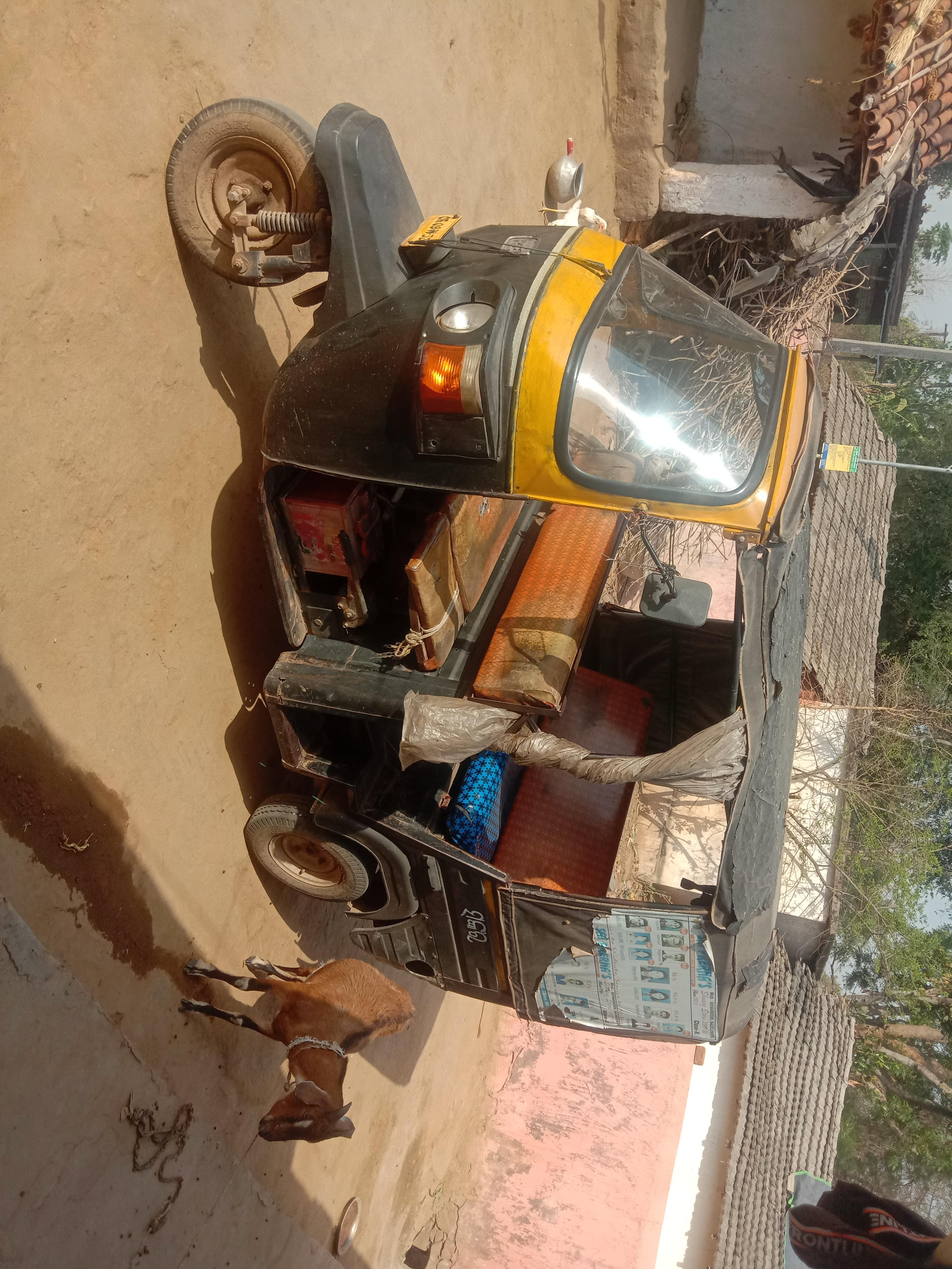non-ambulance: (227, 106, 902, 1091)
